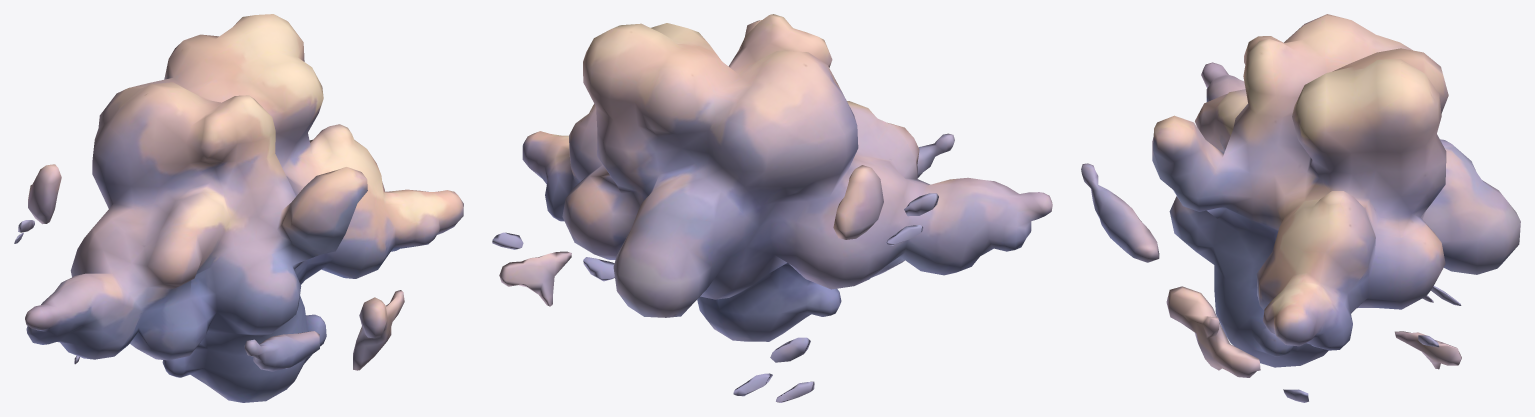
The model's file is SM_Cloud_05.fbx.
The picture shows the model from 3 angles, left to right: view 1: azimuth 30°, elevation 25°; view 2: azimuth 150°, elevation 25°; view 3: azimuth 270°, elevation 25°; orthographic projection. The views are drawn at different scales.
Parts seen in each view (by area): view 1: SM_Cloud_05; view 2: SM_Cloud_05; view 3: SM_Cloud_05.
Boxes of the visible parts, bbox=[...] form: SM_Cloud_05: bbox=[14, 14, 463, 402]; SM_Cloud_05: bbox=[492, 14, 1052, 402]; SM_Cloud_05: bbox=[1081, 14, 1520, 402].
Bounding box in the file's own units: 127 × 83.32 × 100.
Materials: 1 (1 with a texture image).
